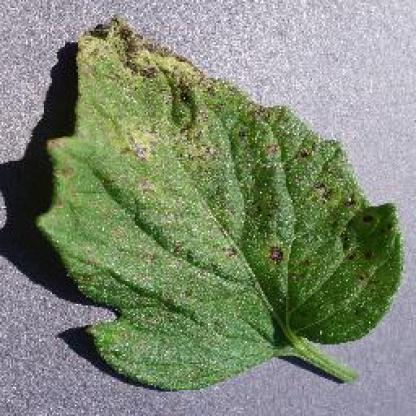bad leaf: (42, 19, 406, 396)
